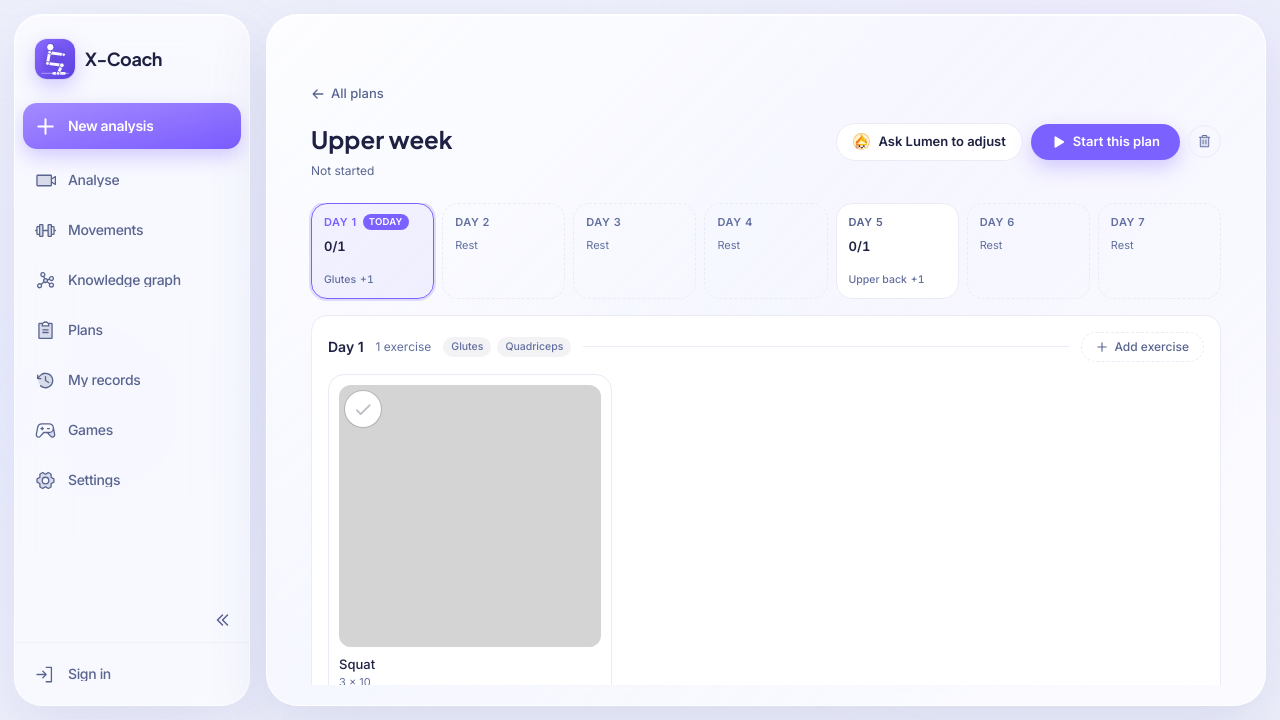
Test: PlanDetail — rendering › shows another day's exercises when its tile is picked
Click the tab "Day 5 0/1 Upper back +1" at (897, 251), box [836,203,959,299]
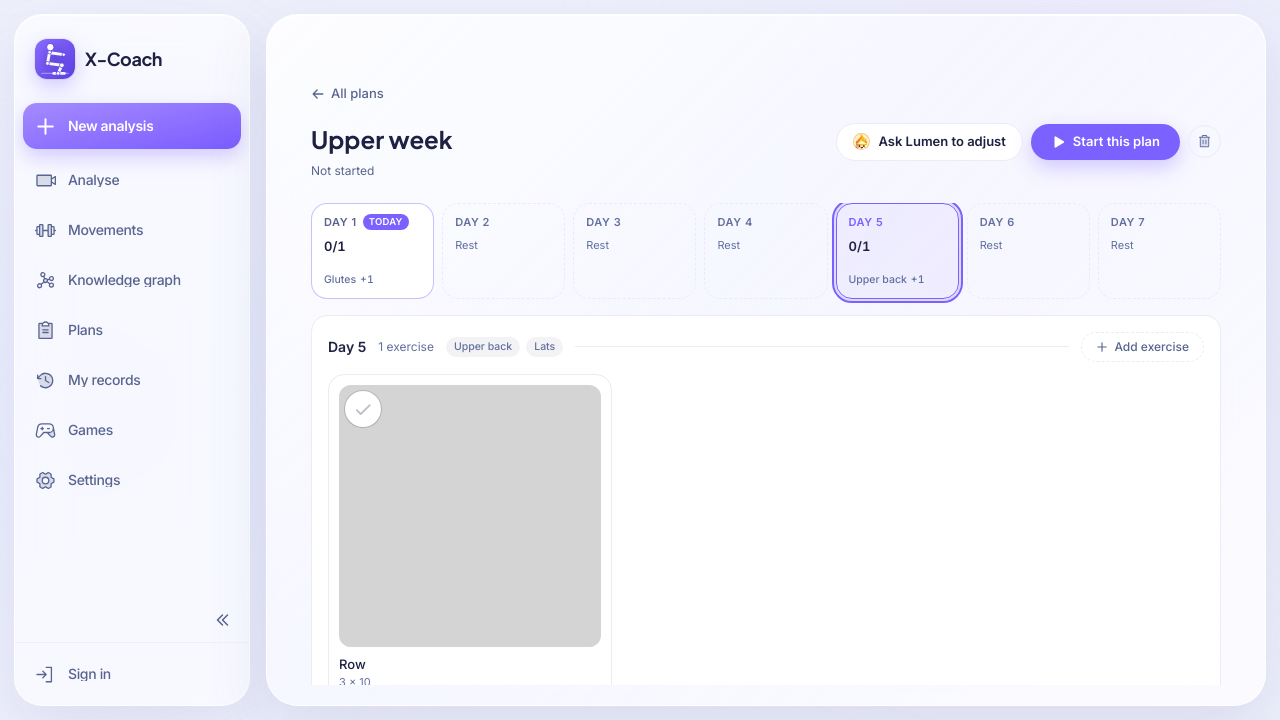
Check: the text "Row" is shown, box [339,656,366,672]
Check: the text "Squat" is gone
